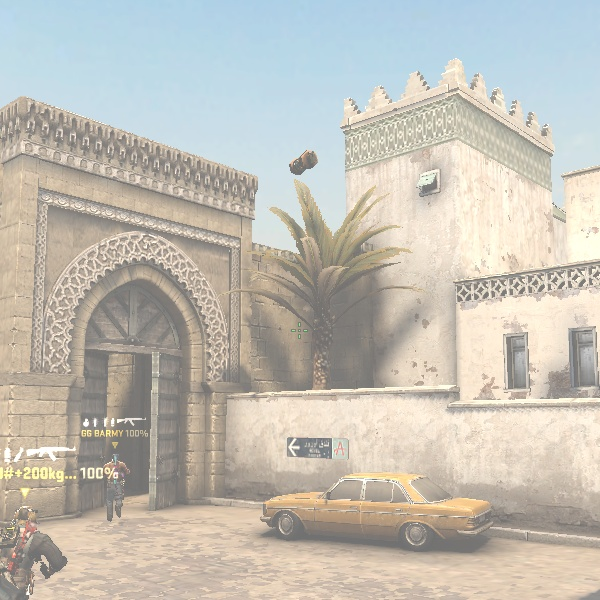t_body: (0, 499, 78, 600), (97, 450, 135, 524)
t_head: (6, 501, 50, 546)
